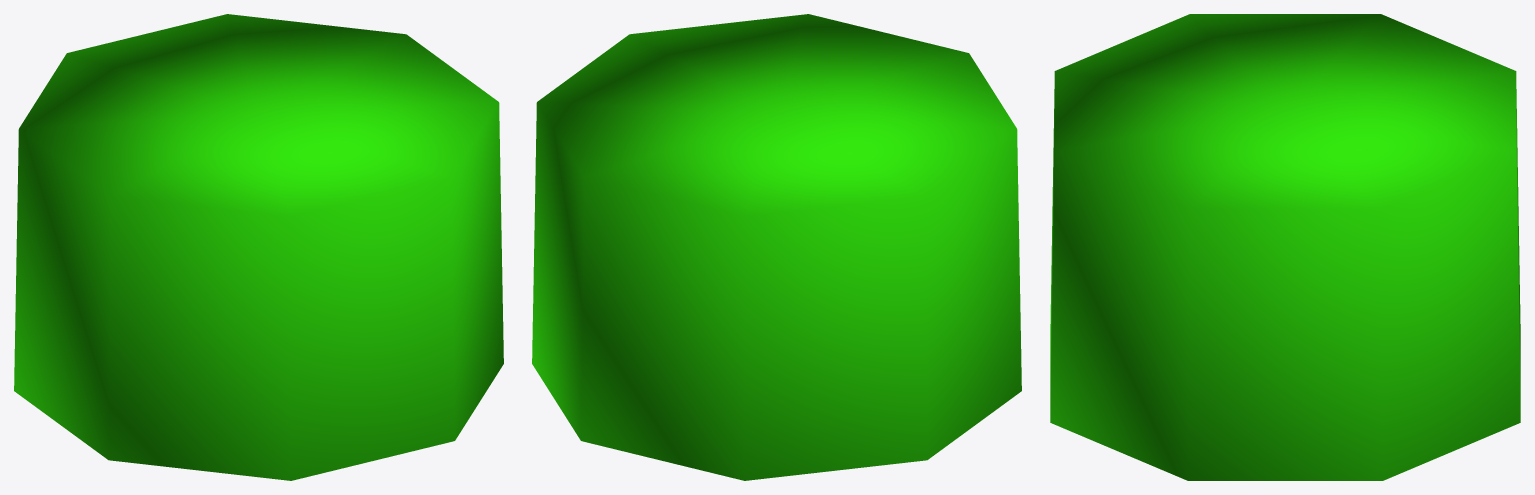
Rendered from Cream_01_Lod1.fbx.
3 views of the same model, side by side, from view 1: azimuth 30°, elevation 25°; view 2: azimuth 150°, elevation 25°; view 3: azimuth 270°, elevation 25° (orthographic). The views are drawn at different scales.
Visible parts, largest first — view 1: Cream_01_Lod1; view 2: Cream_01_Lod1; view 3: Cream_01_Lod1.
Boxes of the visible parts, x1,y1,x2,y2 form: Cream_01_Lod1: [14, 14, 503, 480]; Cream_01_Lod1: [532, 14, 1021, 480]; Cream_01_Lod1: [1050, 14, 1520, 480].
Size of the model in its own units: 9.5 by 6.16 by 9.5.
